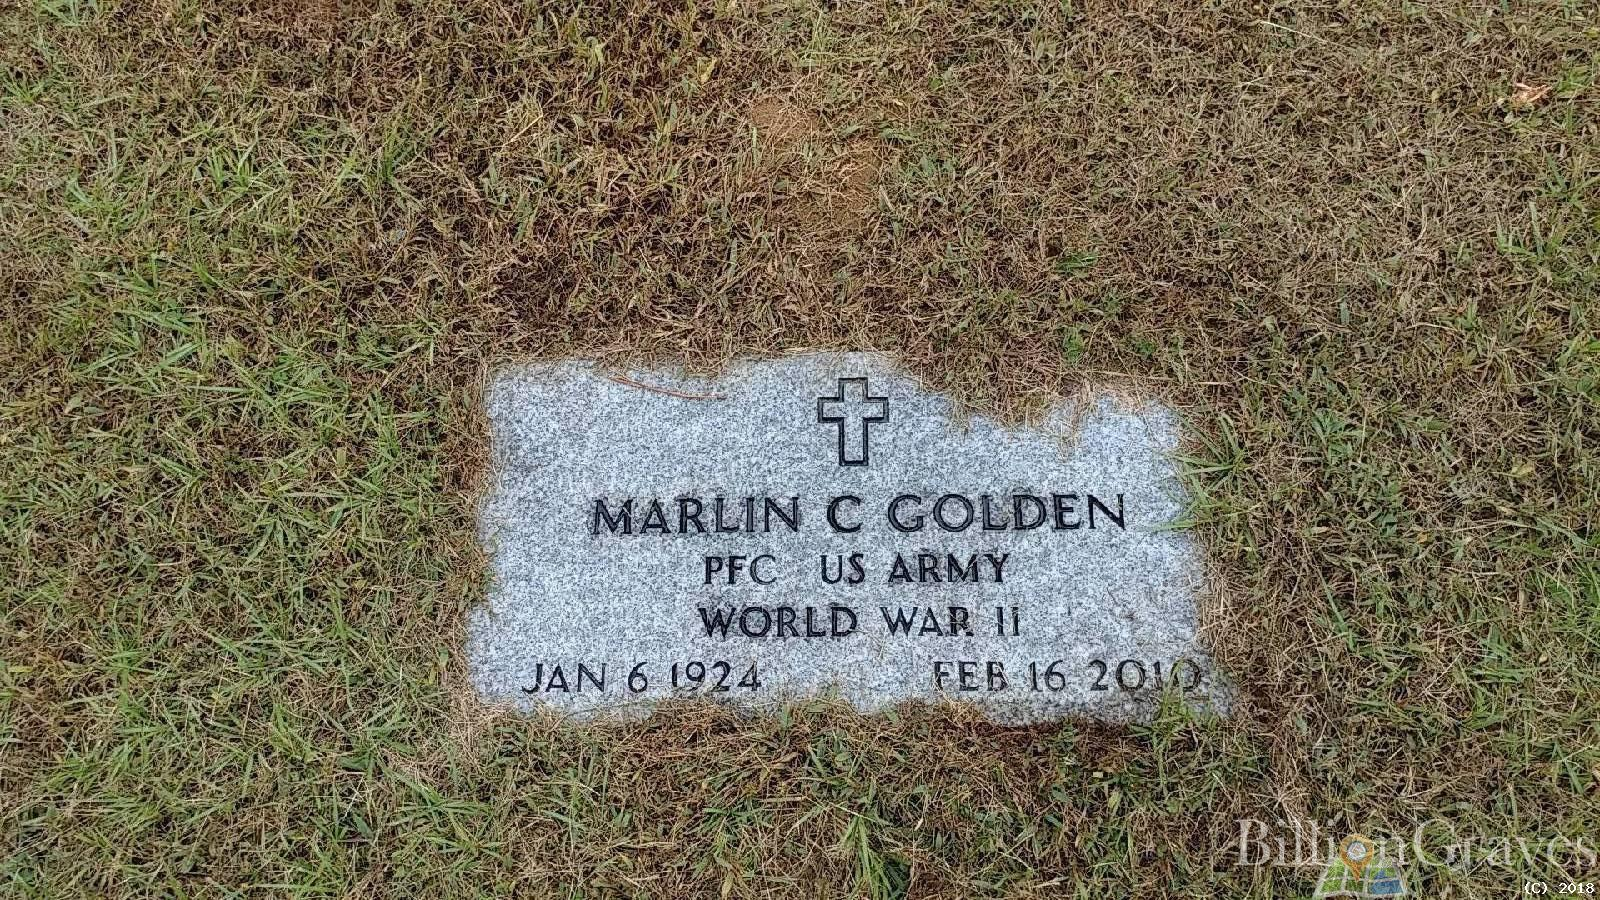flat: (473, 341, 1241, 725)
